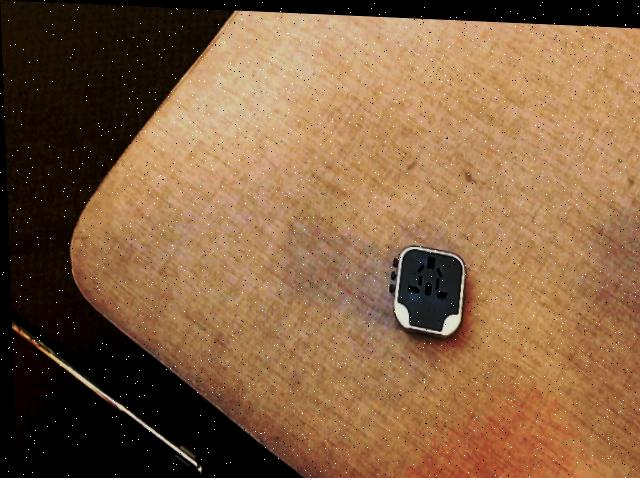adapter: (385, 241, 465, 334)
